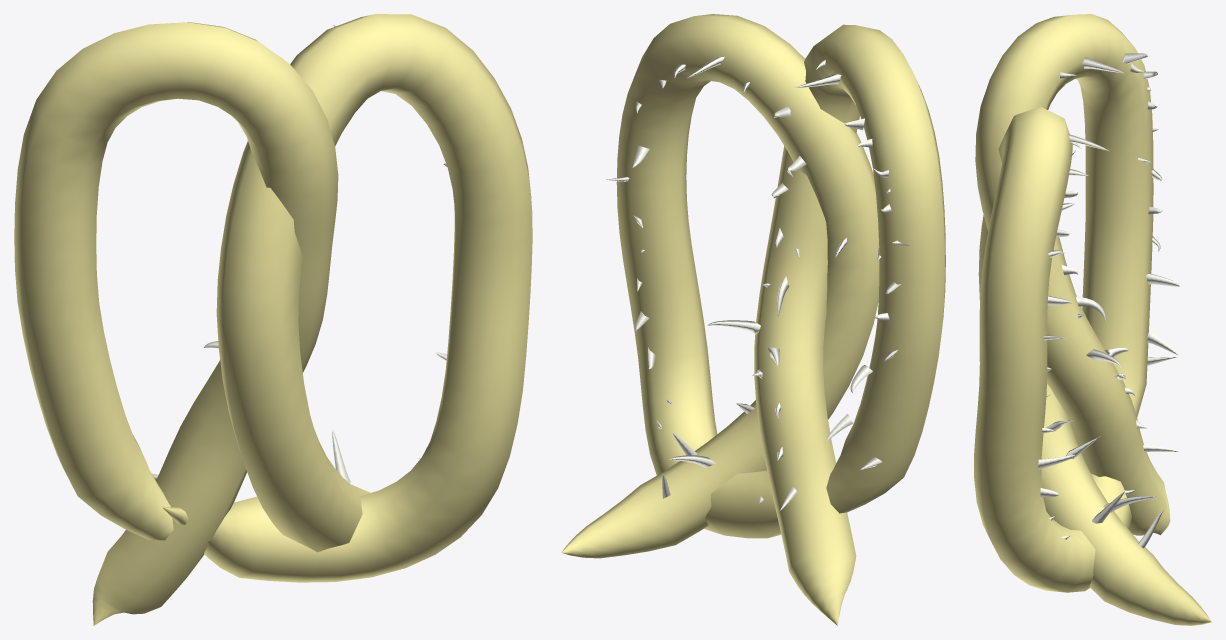
Rendered from pretzel.glb.
3 views of the same model, side by side, from view 1: azimuth 30°, elevation 25°; view 2: azimuth 150°, elevation 25°; view 3: azimuth 270°, elevation 25° (orthographic). The views are drawn at different scales.
Visible parts, largest first — view 1: position; view 2: position; view 3: position.
Boxes of the visible parts, <box> form: position: <box>14,14,532,625</box>; position: <box>561,14,945,625</box>; position: <box>974,14,1211,625</box>.
Size of what is drawn, in the model's own units: 0.3948 by 0.5458 by 0.2241.
